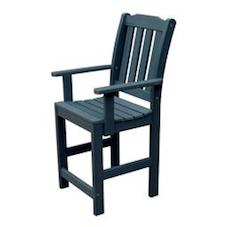chair: (36, 6, 179, 218)
